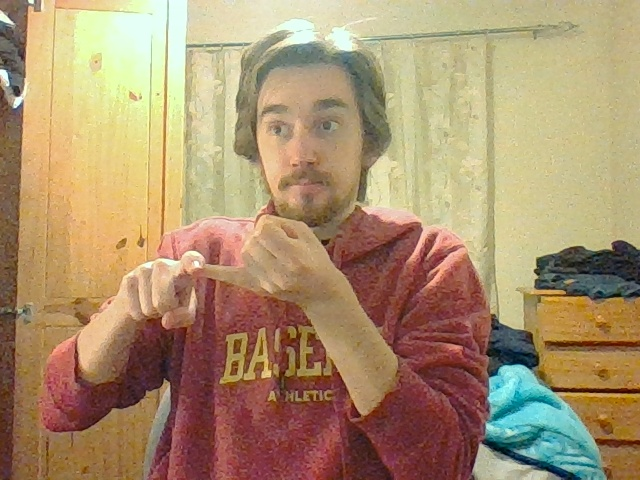step: (126, 215, 326, 328)
